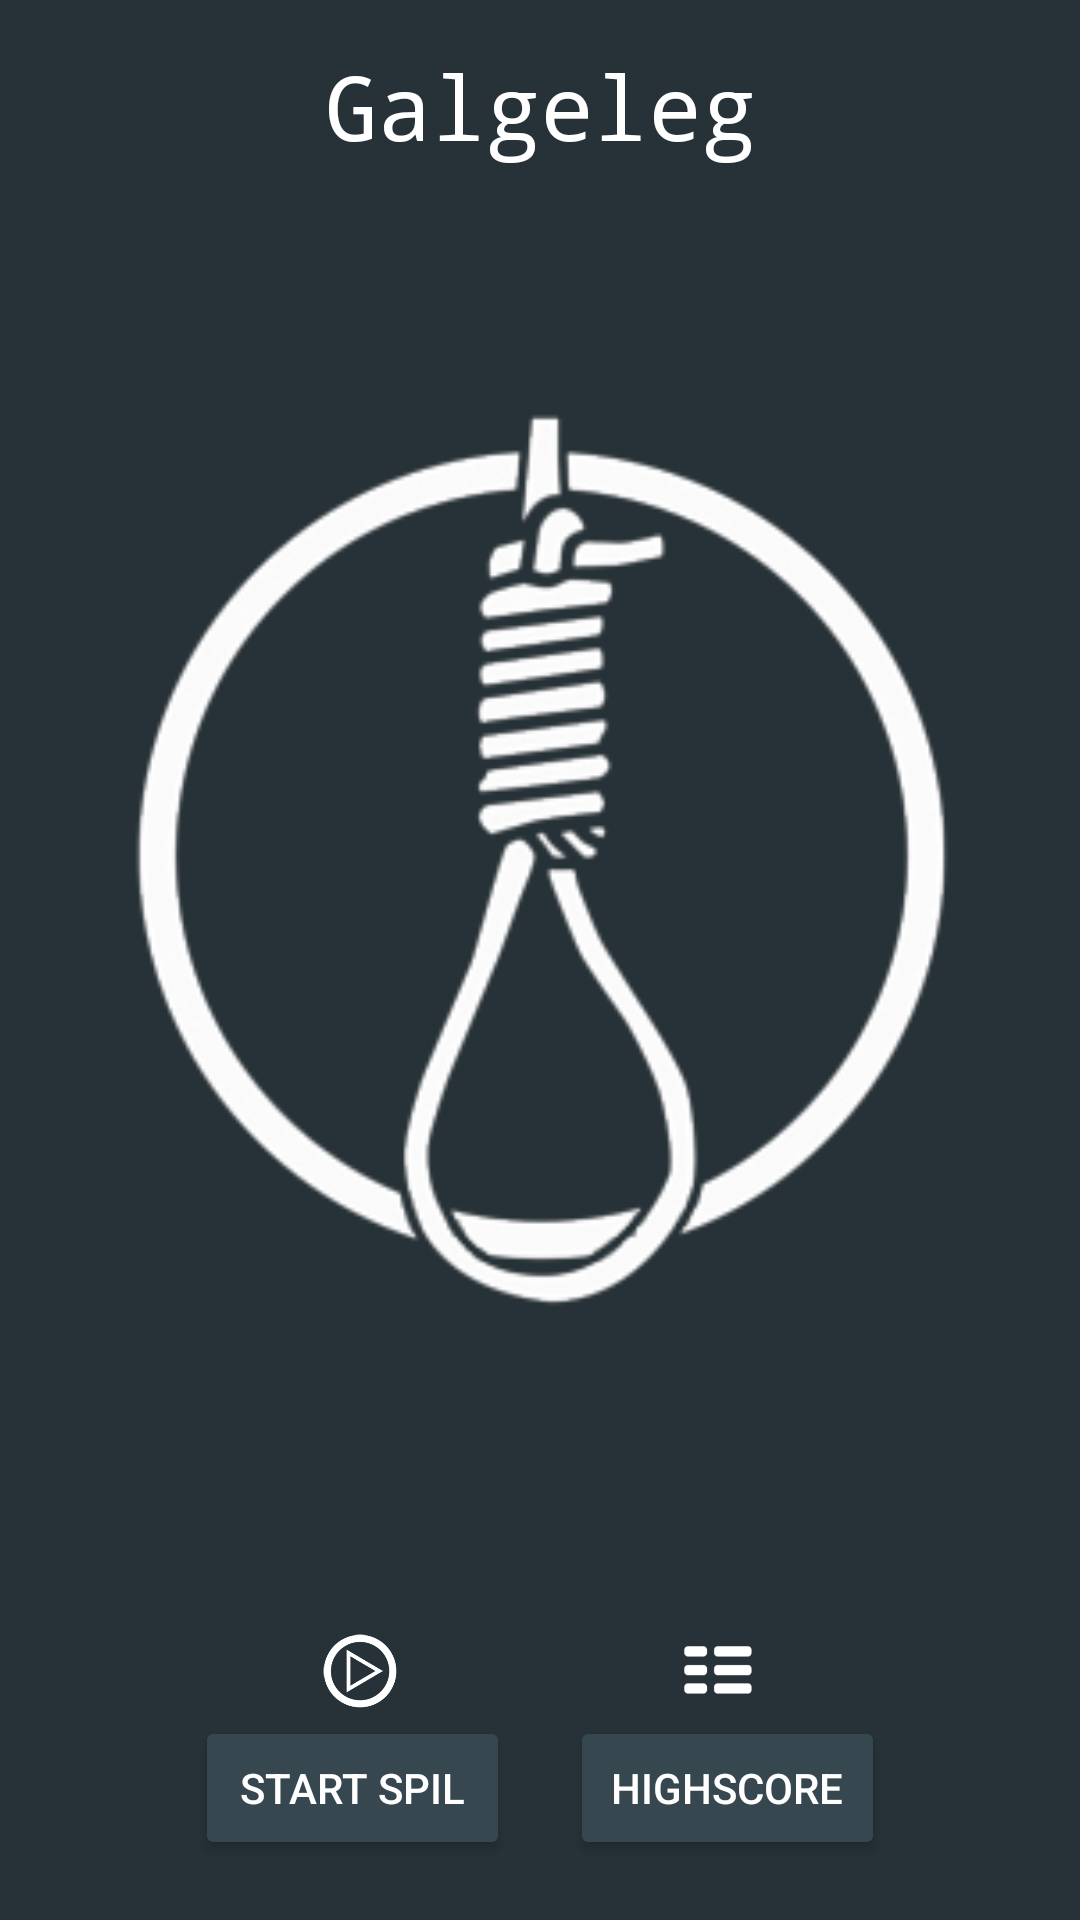

Point at icon controls on the screen. Image size 1080x1920, points as point (x, y).
play: point (360, 1671)
